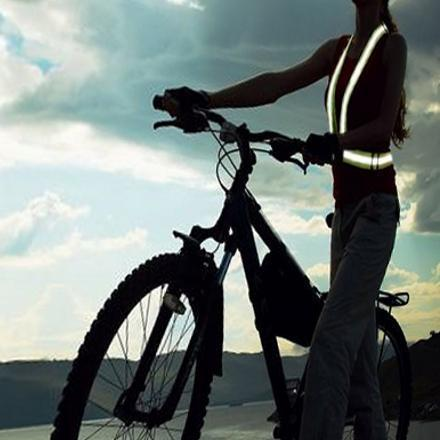Vest: (318, 19, 400, 176)
